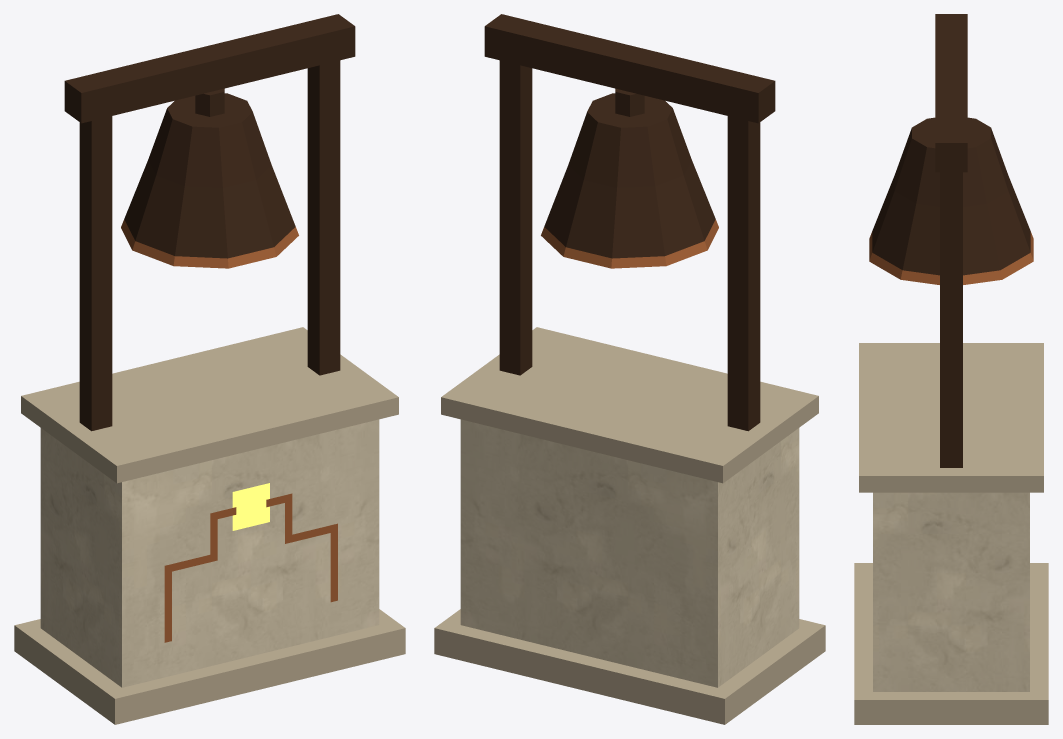
File: bell.glb
3 renders of one model, left to right at view 1: azimuth 30°, elevation 25°; view 2: azimuth 150°, elevation 25°; view 3: azimuth 270°, elevation 25°, orthographic. The views are drawn at different scales.
Visible parts, largest first — view 1: bell; view 2: bell; view 3: bell.
Boxes of the visible parts, left/top/right/bottom form: bell: left=14, top=14, right=405, bottom=724; bell: left=434, top=14, right=825, bottom=724; bell: left=854, top=14, right=1048, bottom=724.
Size of the model in its own units: 1.4 by 2.76 by 0.84.
5 materials, 1 textured.
